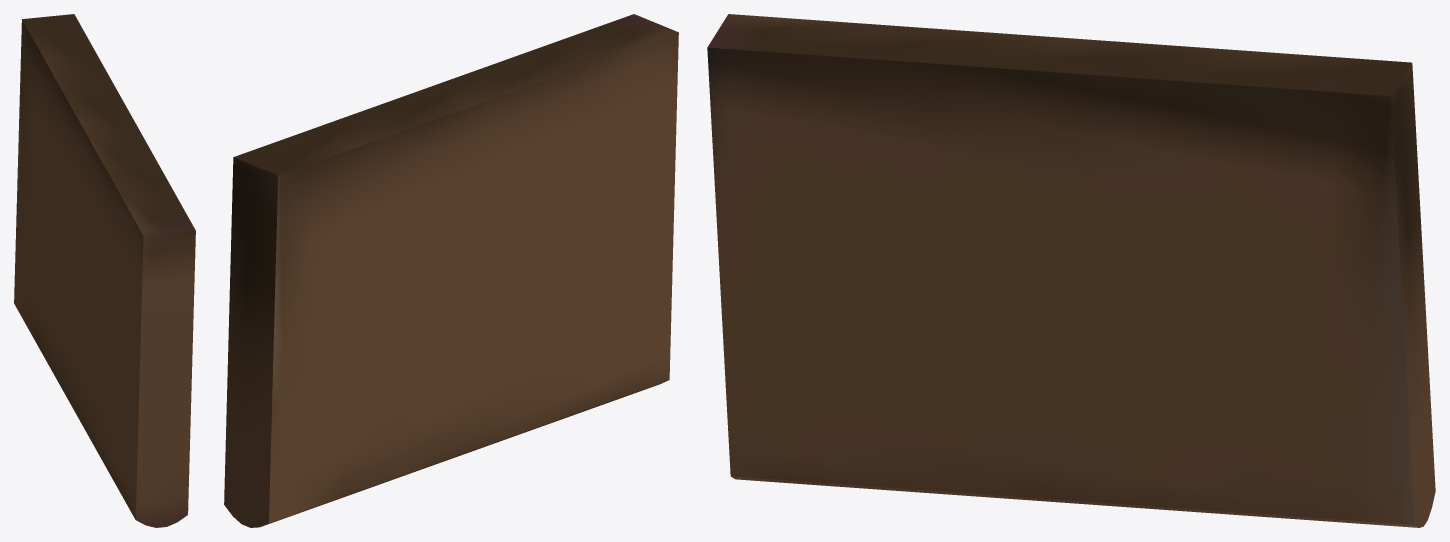
Rendered from Book.obj.
The picture shows the model from 3 angles, left to right: view 1: azimuth 30°, elevation 25°; view 2: azimuth 150°, elevation 25°; view 3: azimuth 270°, elevation 25°; orthographic projection. The views are drawn at different scales.
Visible parts, largest first — view 1: polySurface146.051; view 2: polySurface146.051; view 3: polySurface146.051.
Part boxes in pixels (x1,y1,x2,y2): polySurface146.051: [14, 14, 195, 527]; polySurface146.051: [224, 14, 678, 527]; polySurface146.051: [707, 14, 1435, 527].
Size of the model in its own units: 0.4403 by 0.872 by 1.21.
Materials: 1 (1 with a texture image).
